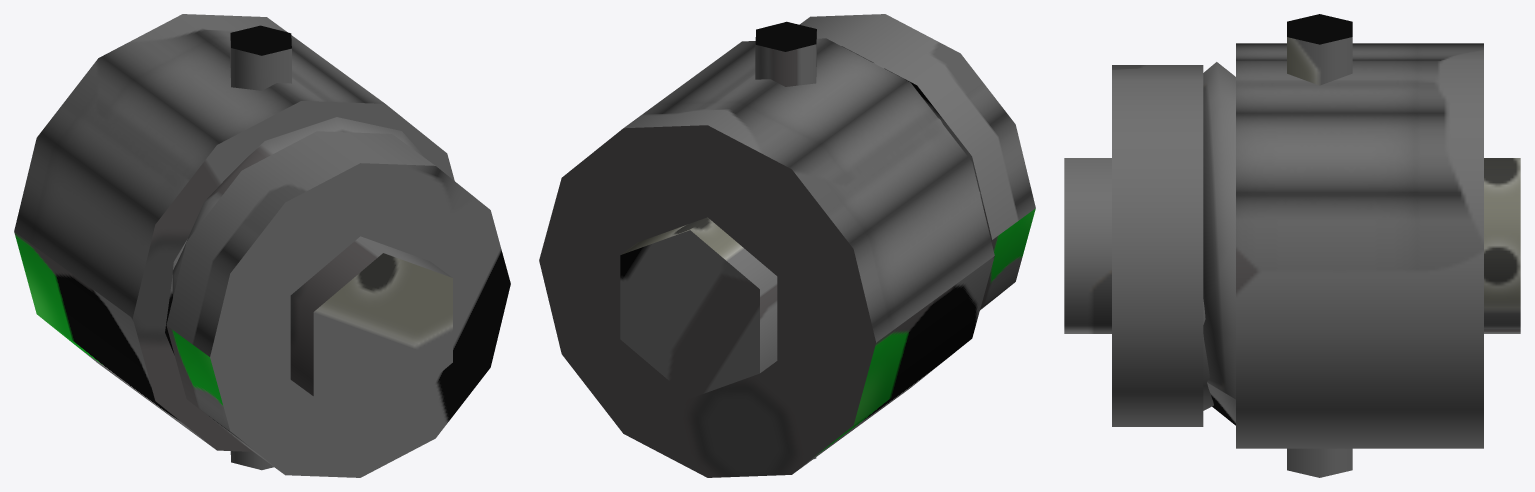
The model's file is obj_interactive_suspensionoffroad_02_on.fbx.
The picture shows the model from 3 angles, left to right: view 1: azimuth 30°, elevation 25°; view 2: azimuth 150°, elevation 25°; view 3: azimuth 270°, elevation 25°; orthographic projection. The views are drawn at different scales.
Visible parts, largest first — view 1: obj_interactive_suspensionoffroad_02_on; view 2: obj_interactive_suspensionoffroad_02_on; view 3: obj_interactive_suspensionoffroad_02_on.
Part boxes in pixels (left/top/right/bottom): obj_interactive_suspensionoffroad_02_on: left=14, top=14, right=510, bottom=477; obj_interactive_suspensionoffroad_02_on: left=539, top=14, right=1035, bottom=477; obj_interactive_suspensionoffroad_02_on: left=1064, top=14, right=1520, bottom=477.
Size of the model in its own units: 1.09 by 1.29 by 1.23.
